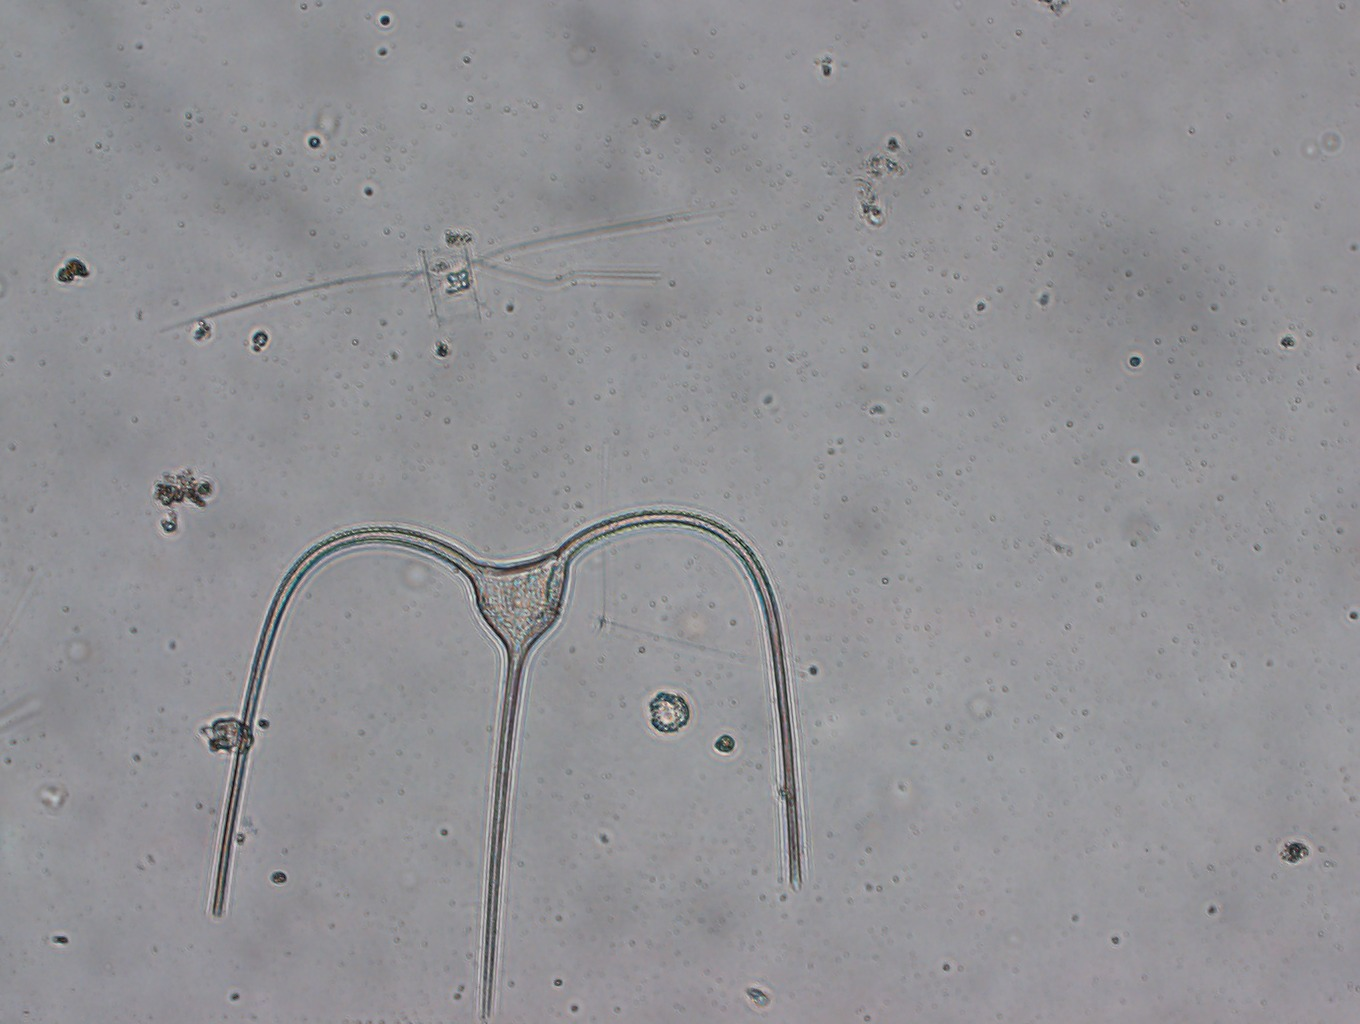ceratium trichoceros: (210, 509, 805, 1024)
chaetoceros: (156, 208, 707, 336)
